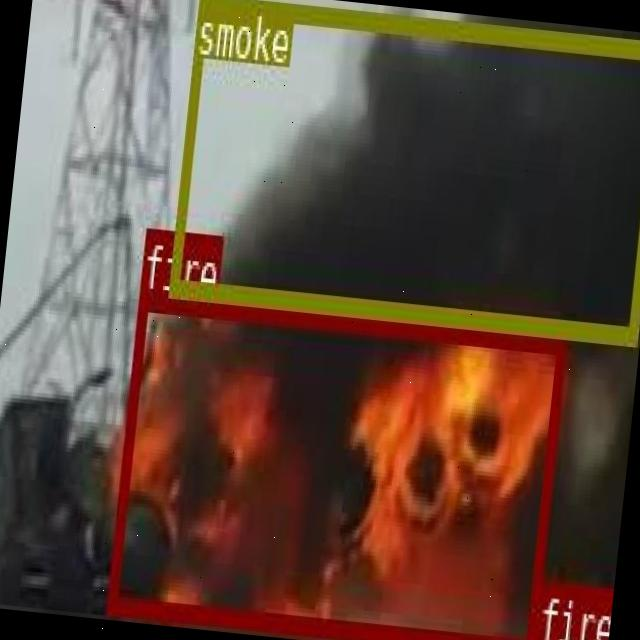fire: (104, 288, 565, 640), (536, 580, 604, 638)
smoke: (167, 0, 640, 342)
